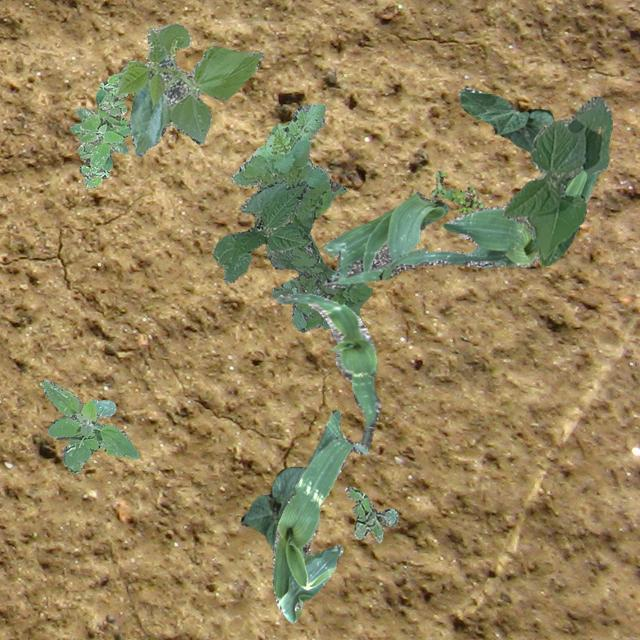crop: (378, 168, 598, 278), (272, 408, 368, 622), (115, 21, 262, 156), (502, 96, 612, 266), (276, 290, 380, 448), (322, 190, 446, 288), (212, 180, 306, 284), (458, 86, 552, 152), (240, 466, 306, 550)
weed: (230, 102, 372, 332), (40, 378, 138, 472), (68, 72, 128, 162), (74, 92, 130, 186), (343, 486, 398, 542), (430, 170, 482, 213)
